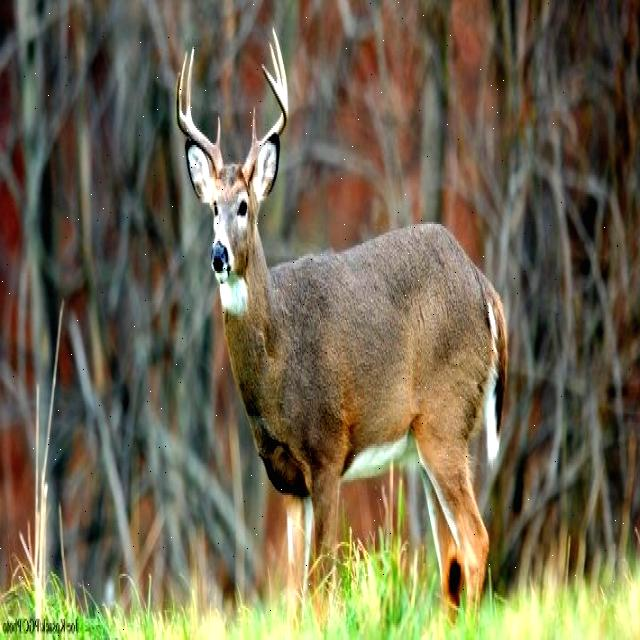deer: (161, 22, 316, 369)
